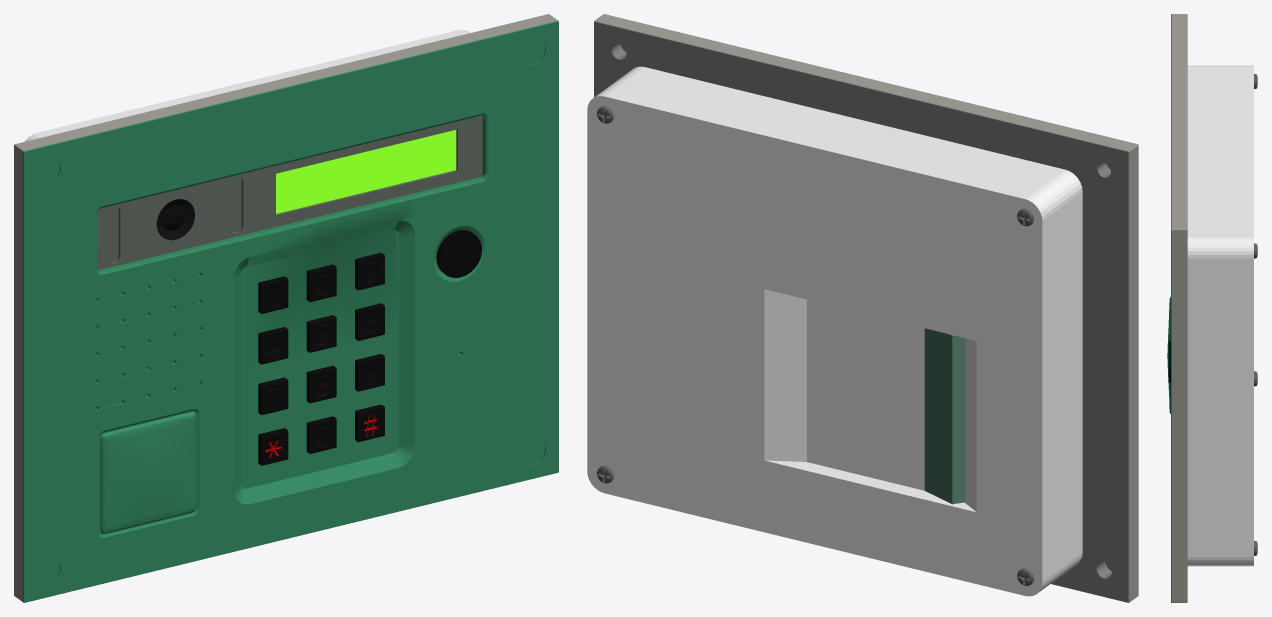
Rendered from Domofon Vizit_000.FBX.
3 renders of one model, left to right at view 1: azimuth 30°, elevation 25°; view 2: azimuth 150°, elevation 25°; view 3: azimuth 270°, elevation 25°, orthographic. The views are drawn at different scales.
Parts seen in each view (by area): view 1: Box002; view 2: Box002; view 3: Box002.
Part boxes in pixels (x1,y1,x2,y2): Box002: [14, 14, 558, 602]; Box002: [587, 14, 1138, 602]; Box002: [1167, 14, 1257, 602].
Bounding box in the file's own units: 155 × 125 × 27.37.
